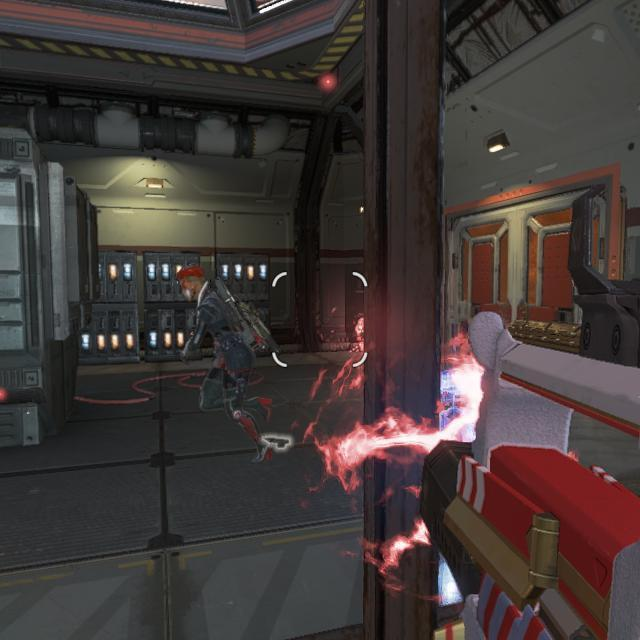avatar: (174, 263, 274, 465)
